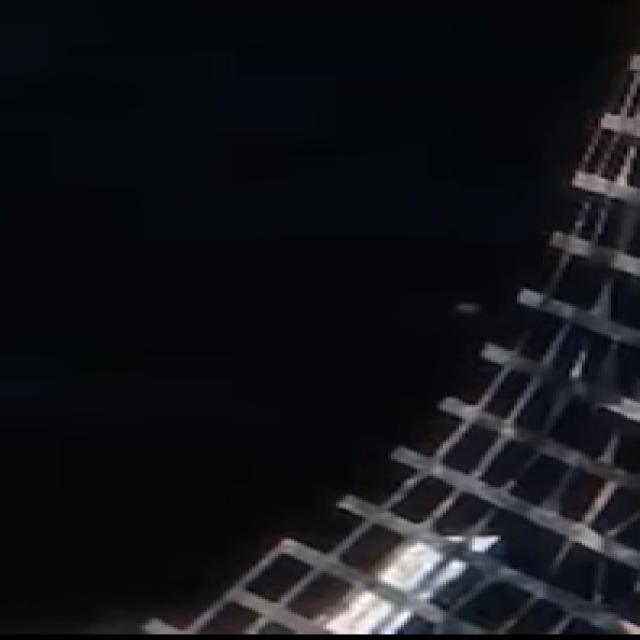large_debris: (142, 39, 637, 640)
